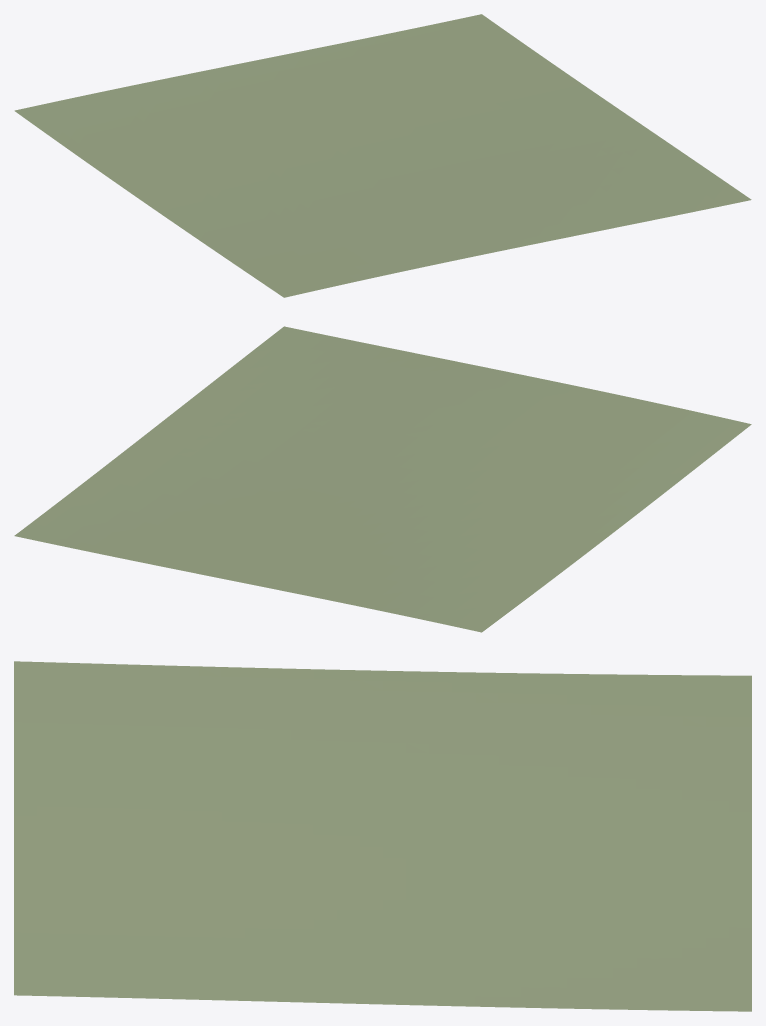
File: expanse-2-22.glb
3 views of the same model, one above another, from view 1: azimuth 30°, elevation 25°; view 2: azimuth 150°, elevation 25°; view 3: azimuth 270°, elevation 25° (orthographic). The views are drawn at different scales.
Visible parts, largest first — view 1: expanse-2-22; view 2: expanse-2-22; view 3: expanse-2-22.
Part boxes in pixels (<box>): expanse-2-22: <box>14,14,751,297</box>; expanse-2-22: <box>14,326,751,632</box>; expanse-2-22: <box>14,661,751,1011</box>.
Bounding box in the file's own units: 256 × 14.72 × 256.
